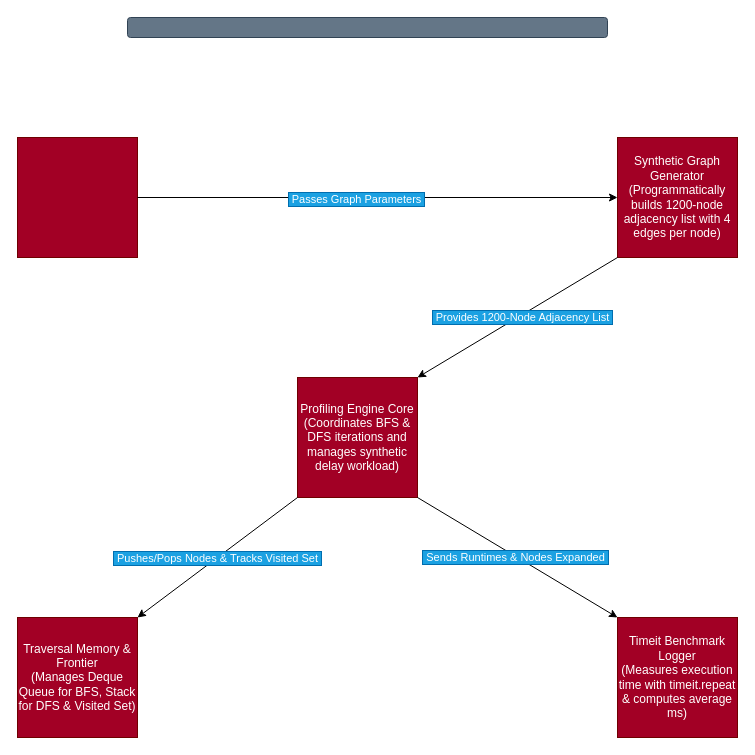
The diagram is 755 pixels wide and 755 high, and some of its shapes have lost their labels. Here are the shapes that lost their labels. From the top down, the centre of each, then its label:
(367,27): LEVEL 2: CONTAINER DIAGRAM - HIGH-LEVEL ARCHITECTURE & DATA FLOW
(77,197): Input & Configuration Module (Receives Nodes=1200, Goals=1, 600, 1199 & Runs=3)
